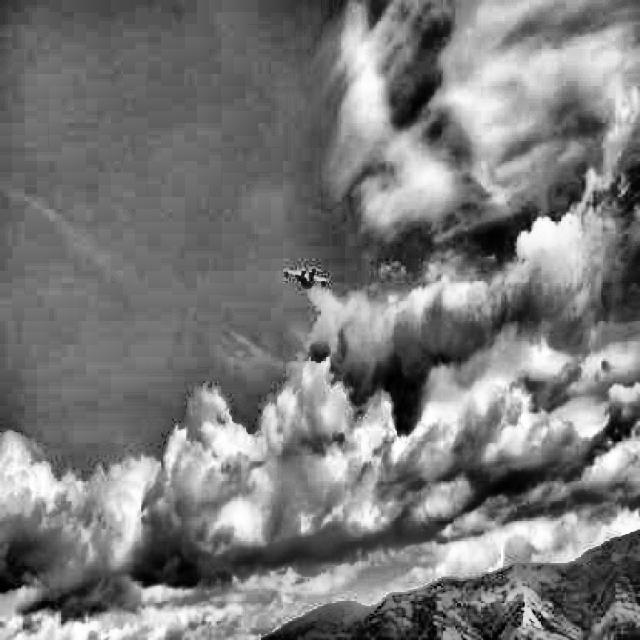Be200: (282, 265, 331, 289)
